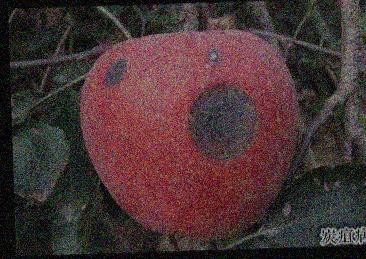rotten apple: (81, 29, 306, 241)
